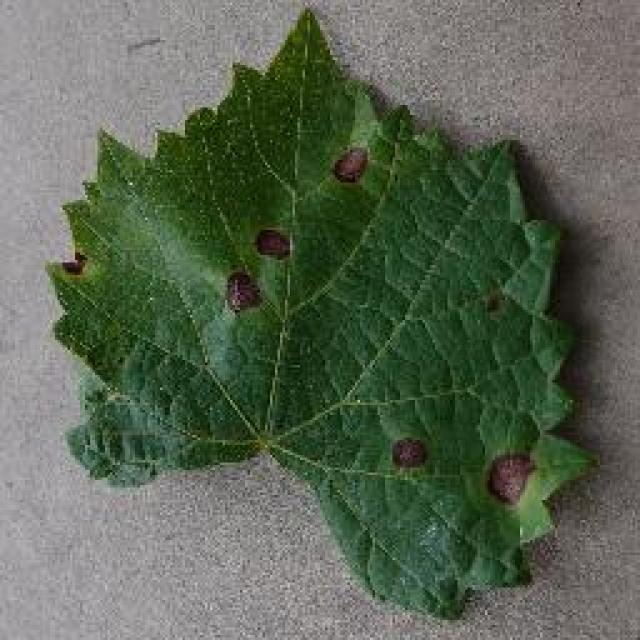Grape___Black_rot: (40, 2, 609, 628)
